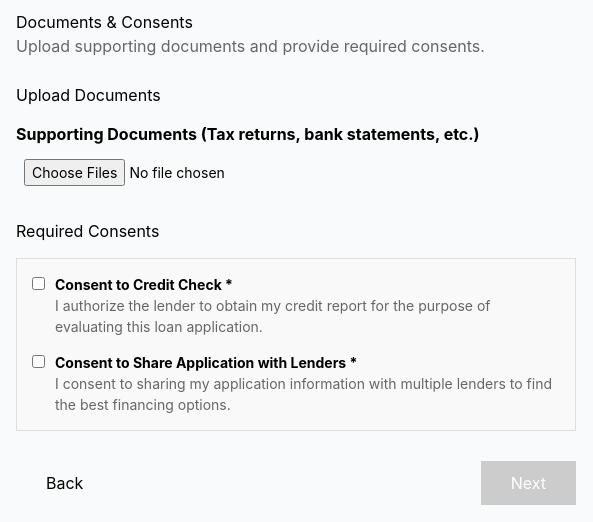
it: DocumentsAndConsentsStep › Next is disabled until both consents checked
The width and height of the screenshot is (593, 522).
Expected: the button "Next" is disabled, 481,461 -> 576,505
Click the checkbox labelled "Consent to Credit Check *" at x=38, y=284, box 32,277 -> 45,290
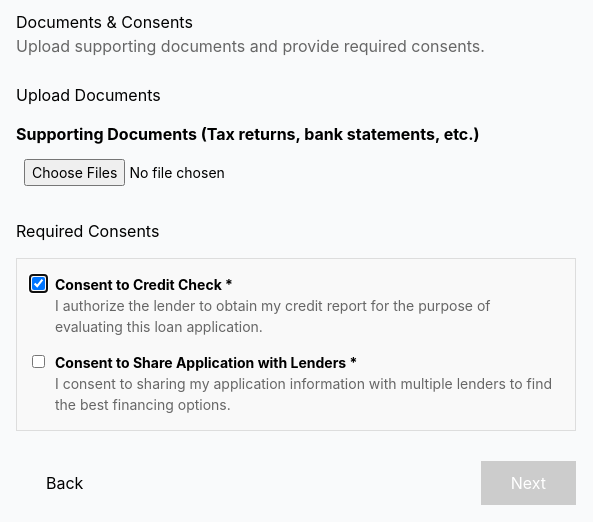
Expected: the button "Next" is disabled, 481,461 -> 576,505
Click the checkbox labelled "Consent to Share Application with Lenders *" at x=38, y=362, box 32,355 -> 45,368
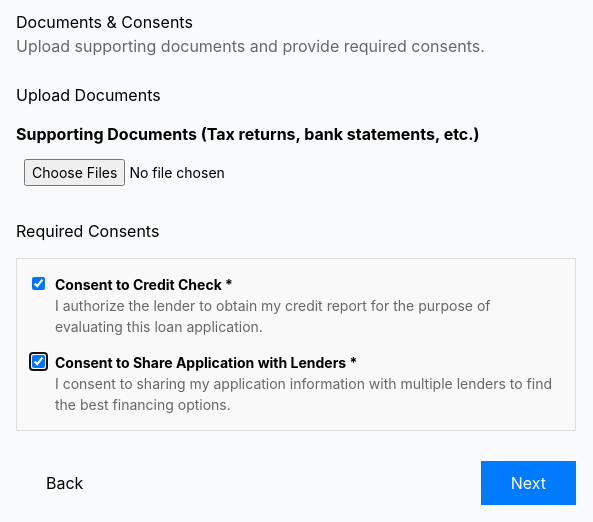
Result: the button "Next" is enabled at 481,461 -> 576,505
